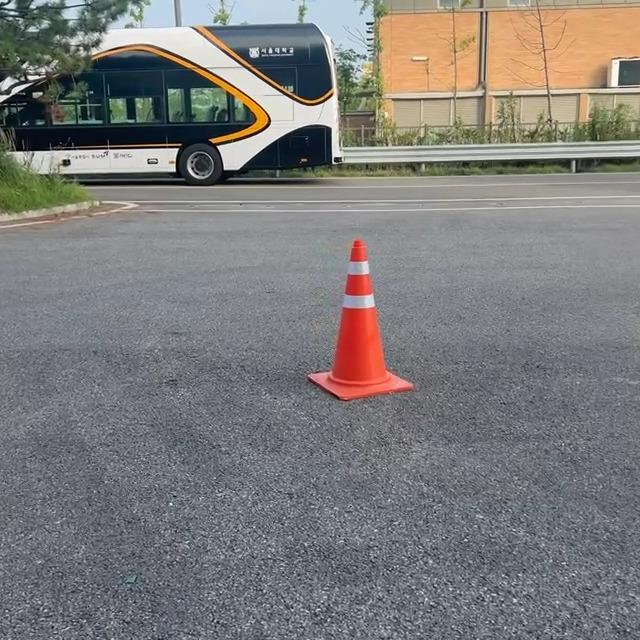fallen_object: (283, 230, 458, 440)
